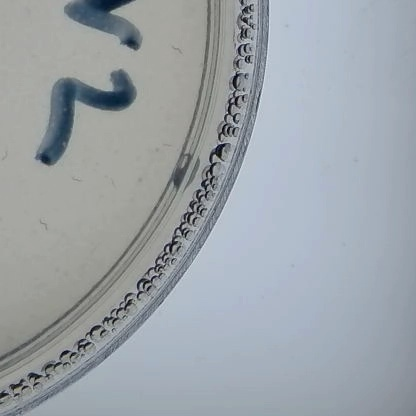worm: (150, 140, 178, 159), (165, 44, 184, 59), (65, 176, 85, 188), (0, 146, 14, 162), (35, 218, 50, 232), (104, 179, 120, 192)
